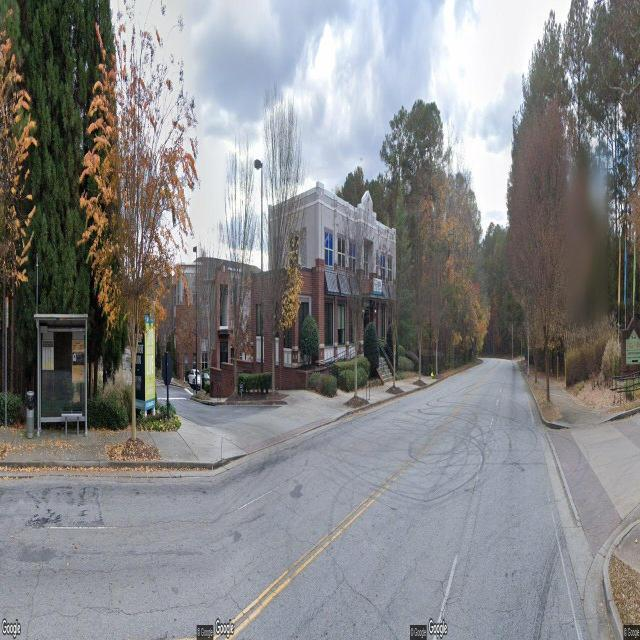seating: (60, 408, 81, 438)
shelter: (32, 311, 88, 446)
trash_can: (26, 392, 34, 439)
